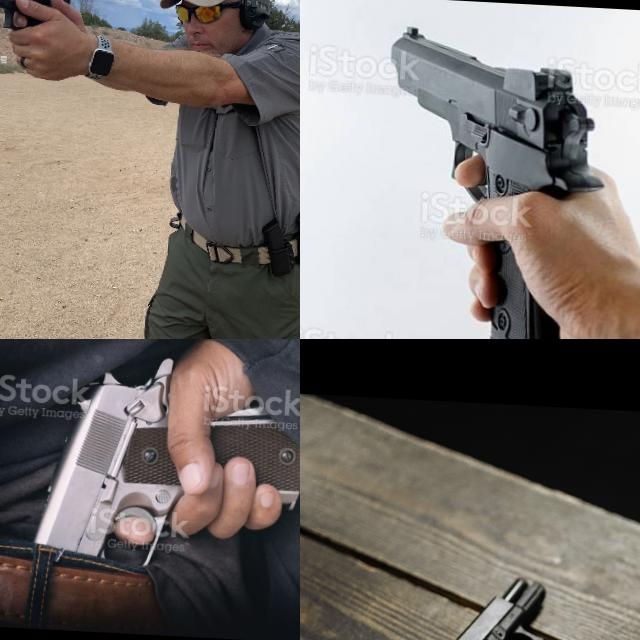handgun: (370, 22, 616, 339), (26, 348, 300, 593), (379, 566, 553, 640), (0, 0, 76, 35)
